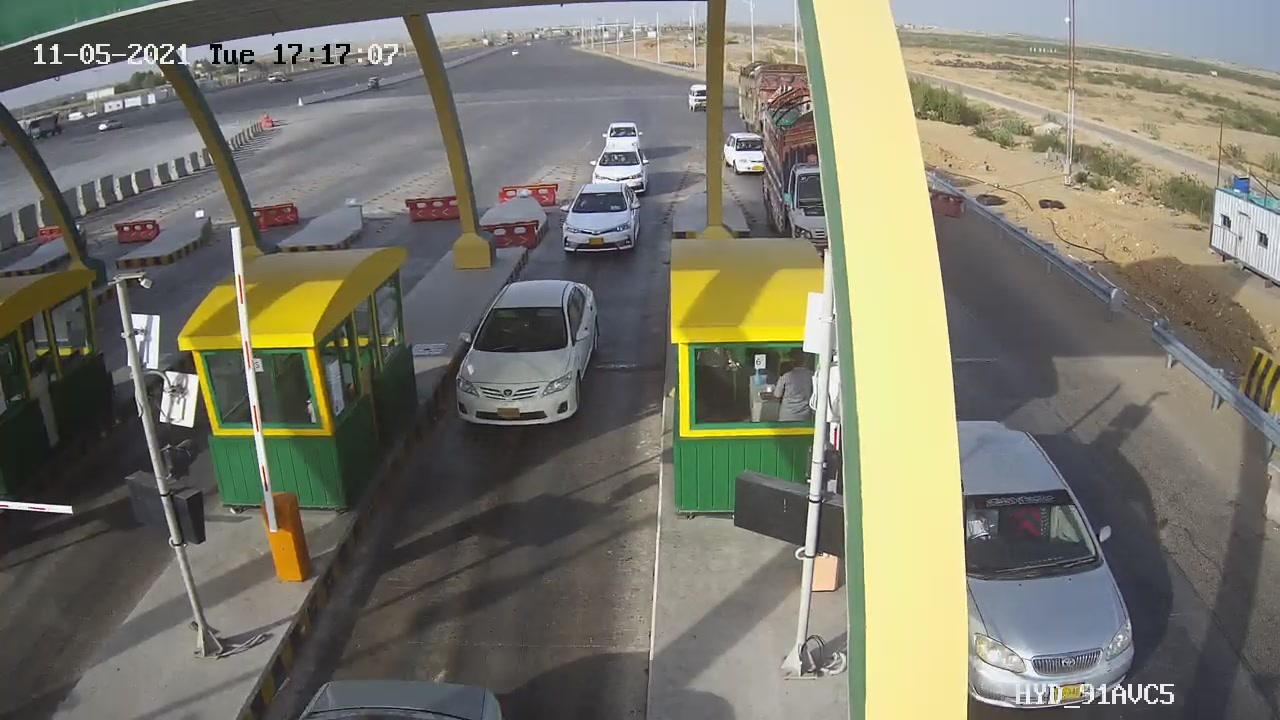F1: (438, 268, 616, 447), (550, 172, 657, 270)
